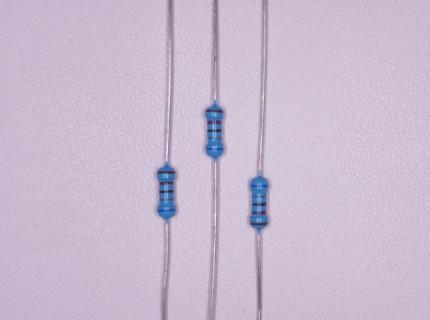Black band: (160, 189, 174, 194), (207, 129, 222, 133), (252, 203, 267, 206)
Blue band: (205, 147, 224, 151), (158, 209, 176, 212), (250, 184, 268, 187)
Brown band: (250, 222, 268, 226), (205, 110, 223, 113), (157, 171, 175, 174)
Grey band: (159, 198, 174, 201), (208, 137, 222, 140), (252, 195, 266, 198)
Red band: (159, 181, 174, 186), (207, 120, 222, 125), (252, 211, 266, 215)
